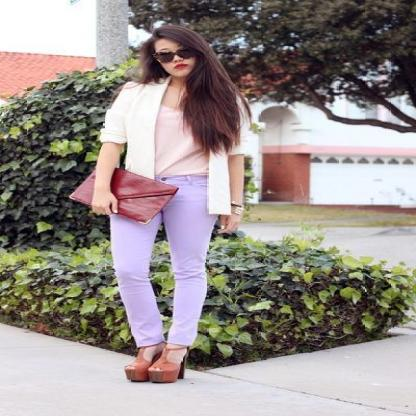bag: (68, 158, 178, 224)
jacket: (101, 82, 241, 214)
pants: (109, 168, 214, 346)
shirt: (151, 104, 211, 174)
shoe: (124, 339, 198, 383)
